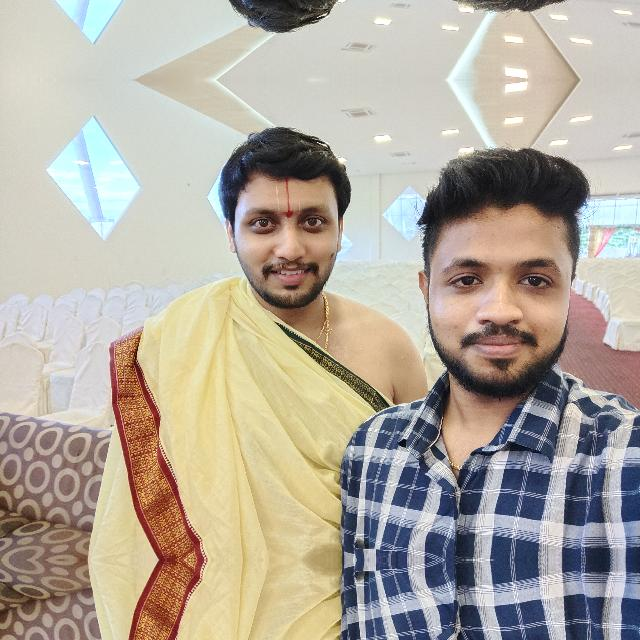person: (400, 132, 620, 470), (196, 104, 378, 378), (196, 0, 378, 56), (400, 0, 619, 28)
